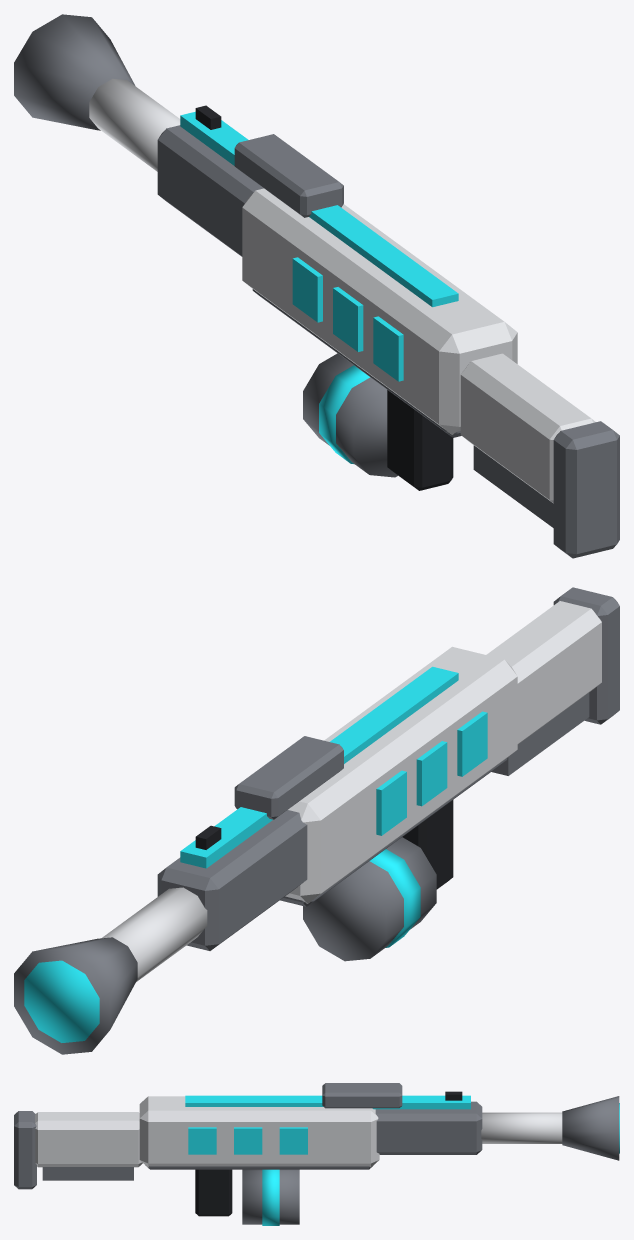
File: weapon_plasma.glb
The picture shows the model from 3 angles, top to bottom: view 1: azimuth 30°, elevation 25°; view 2: azimuth 150°, elevation 25°; view 3: azimuth 270°, elevation 25°; orthographic projection. The views are drawn at different scales.
Parts seen in each view (by area): view 1: Gun; view 2: Gun; view 3: Gun.
Part boxes in pixels (x1,y1,x2,y2): Gun: [14, 14, 619, 558]; Gun: [14, 587, 619, 1054]; Gun: [14, 1083, 619, 1225].
Size of the model in its own units: 0.1103 by 0.262 by 1.06.
